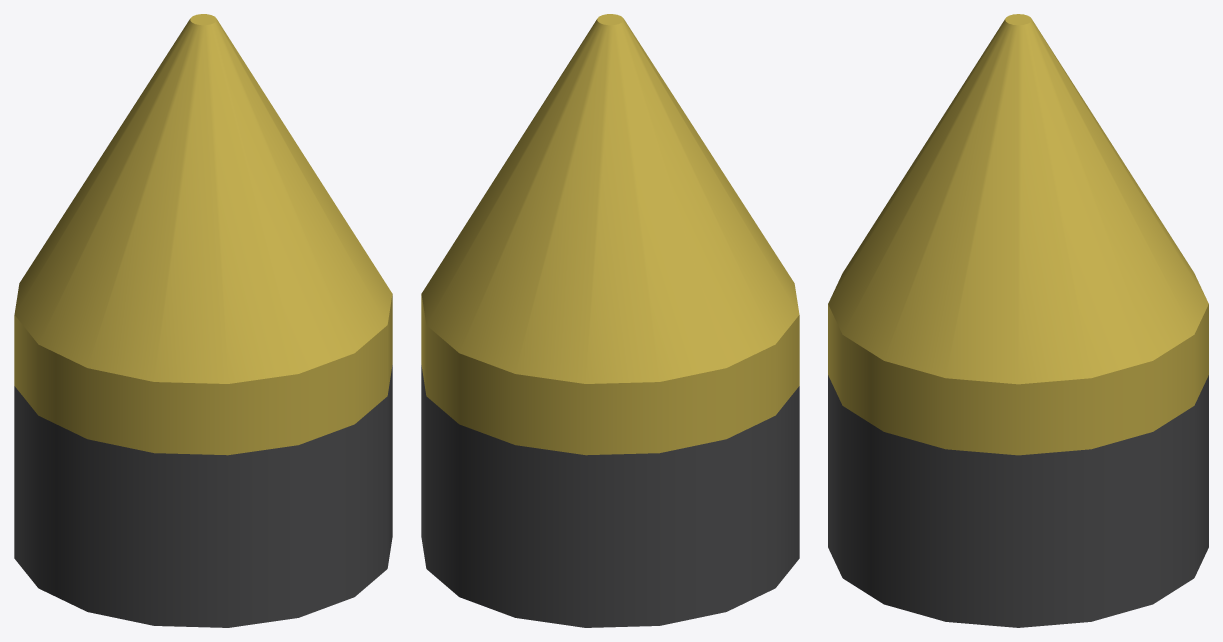
Rendered from buoy-conical-yellow.glb.
3 views of the same model, side by side, from view 1: azimuth 30°, elevation 25°; view 2: azimuth 150°, elevation 25°; view 3: azimuth 270°, elevation 25° (orthographic).
Visible parts, largest first — view 1: buoy-conical-yellow; view 2: buoy-conical-yellow; view 3: buoy-conical-yellow.
Part boxes in pixels (bbox=[...]): buoy-conical-yellow: bbox=[14, 14, 392, 627]; buoy-conical-yellow: bbox=[421, 14, 799, 627]; buoy-conical-yellow: bbox=[828, 14, 1208, 627].
Size of the model in its own units: 1.7 by 2.6 by 1.7.
